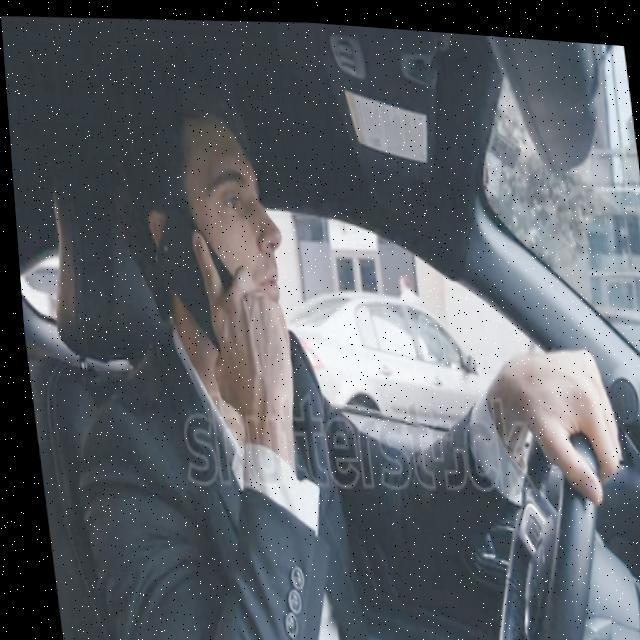PhoneCall: (147, 200, 248, 372)
